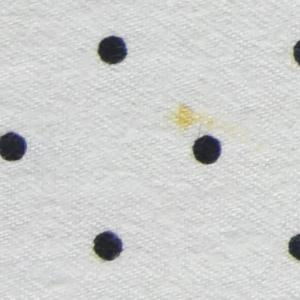Stain: (166, 99, 224, 135)
